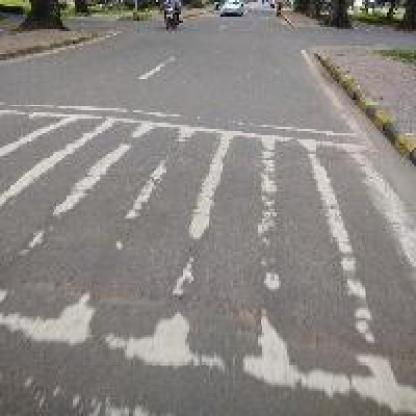Speed Bump: (0, 108, 406, 406)
